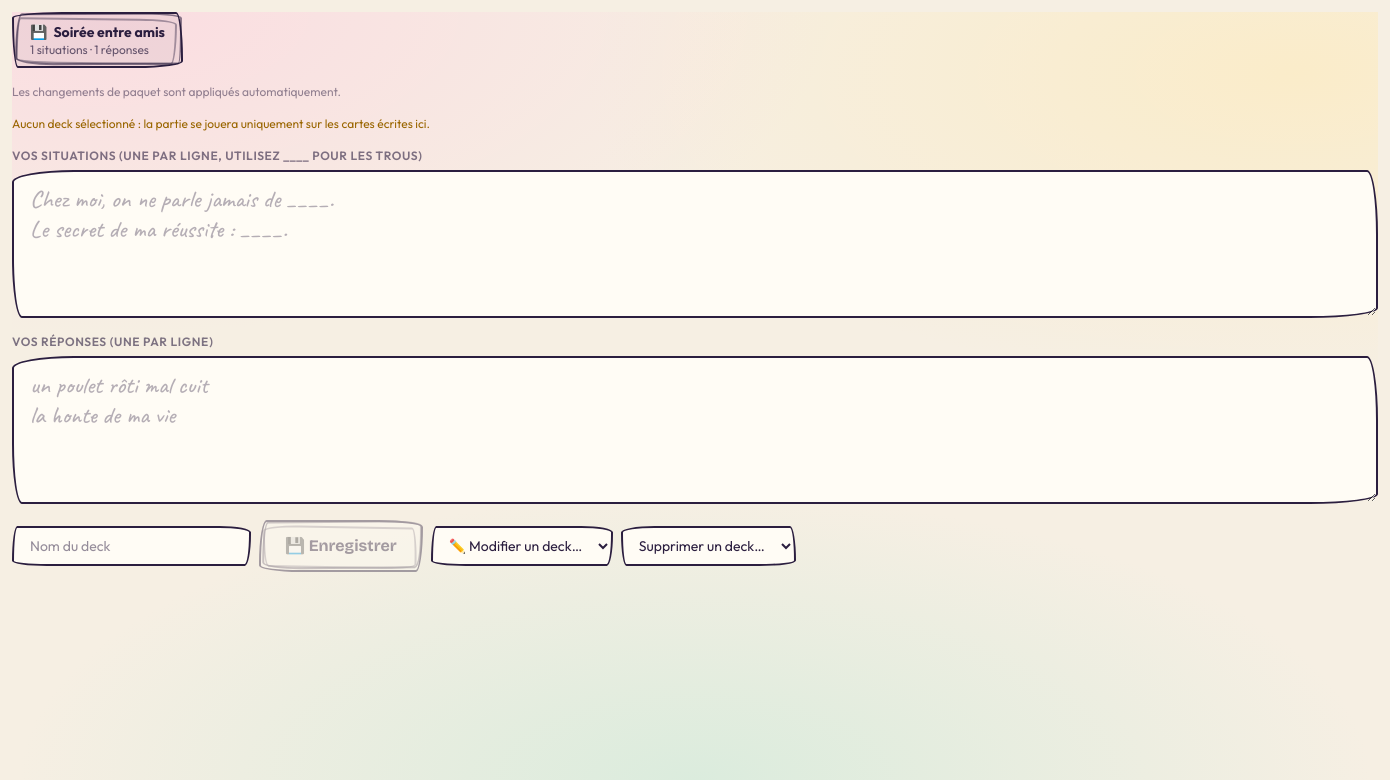
Test: DeckBuilder › deletes the deck once the host confirms, and plays on without it
Select "Soirée entre amis" in the dropdown named "Supprimer un deck enregistré": (708, 546) [621, 526, 796, 566]
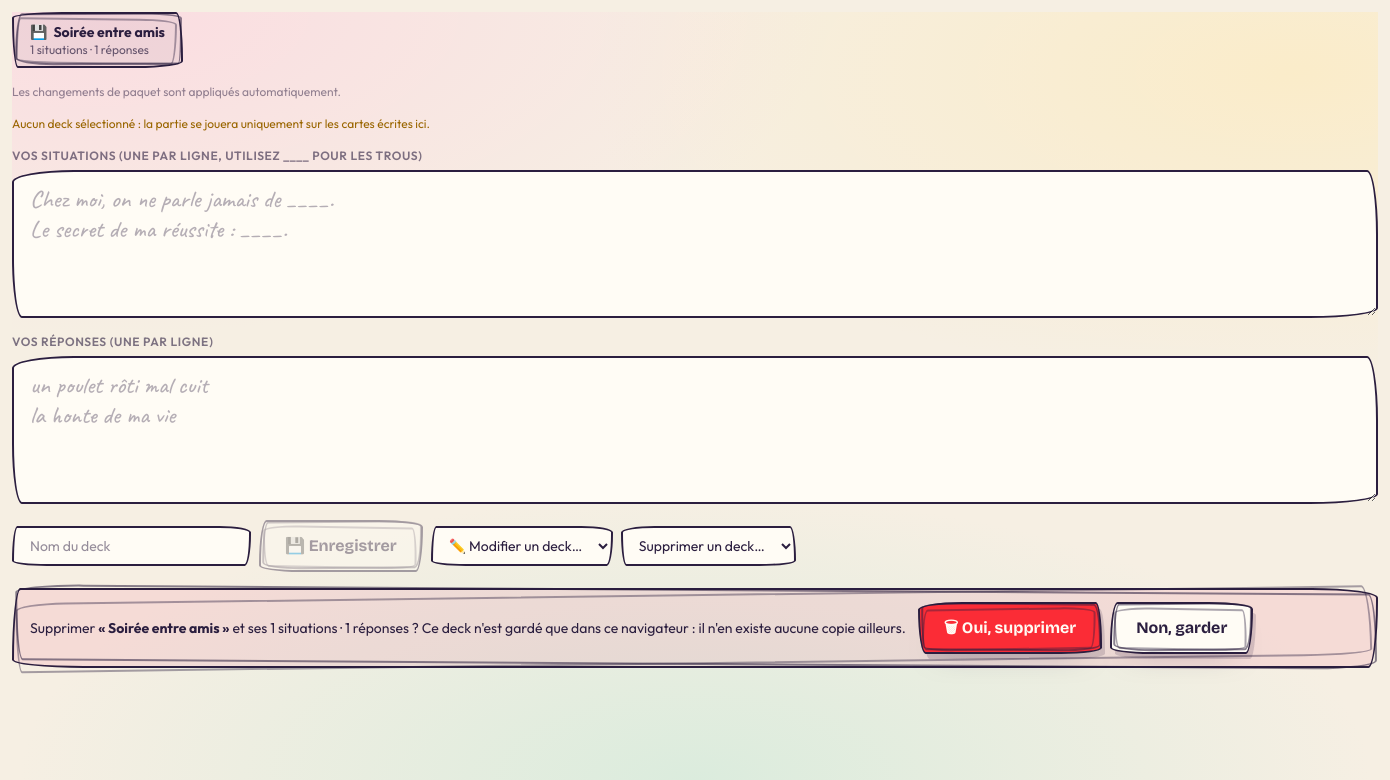
Click the button "🗑 Oui, supprimer": (1010, 628) [918, 602, 1102, 654]
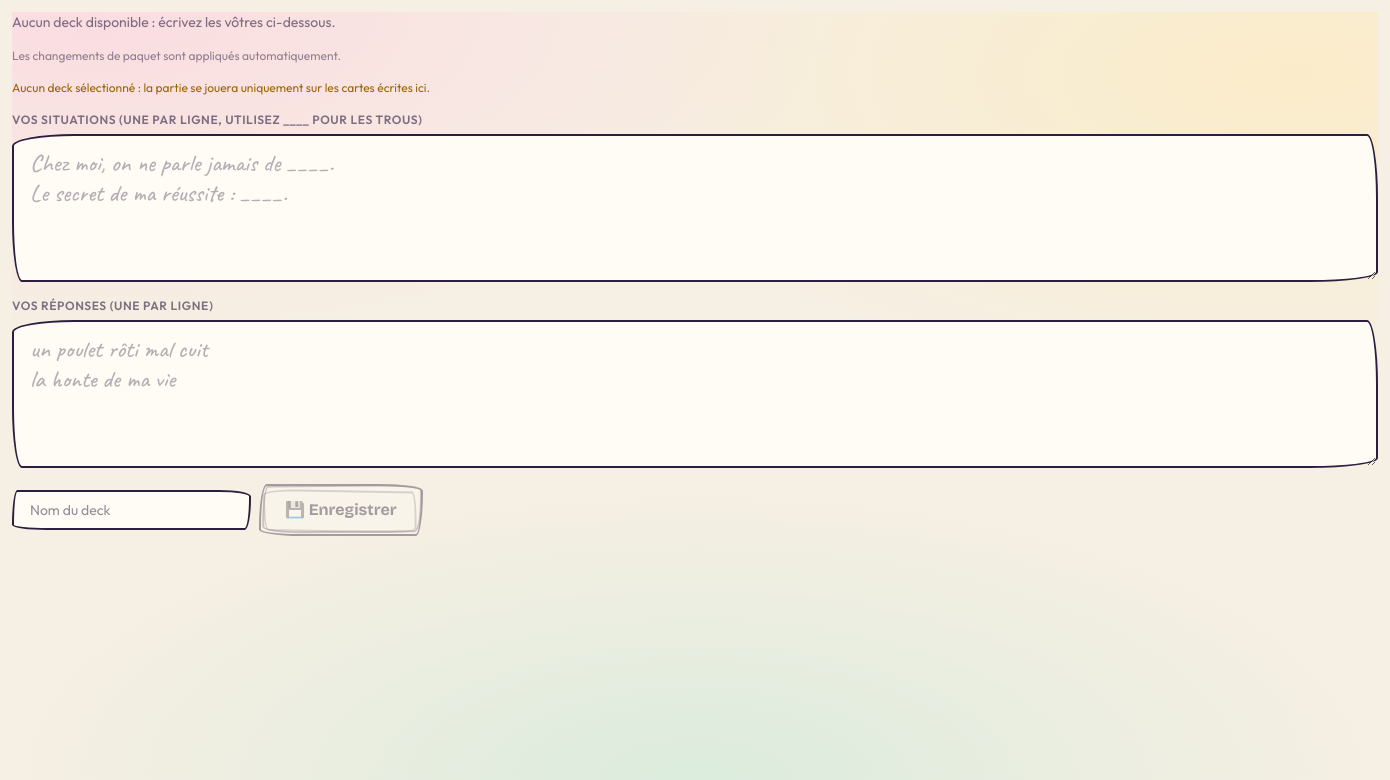
Expected: the message is gone
